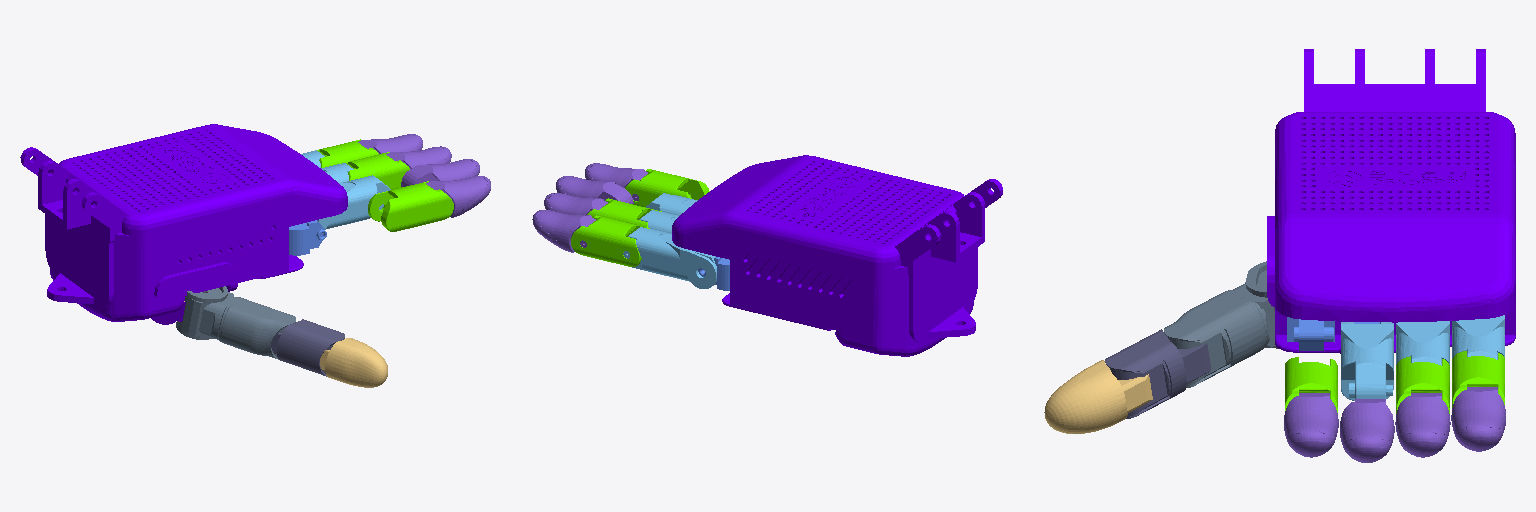
URDF robot description (marvin_021pro_left_hand):
<?xml version='1.0' encoding='utf-8'?>
<robot name="marvin_021pro_left_hand">
  <link name="left_hand_base" />
  <joint name="left_hand_base_to_palm" type="fixed">
    <origin xyz="0 0 0" rpy="3.141592653589793 1.5707963267948966 0" />
    <parent link="left_hand_base" />
    <child link="LFH1" />
  </joint>
  <link name="LFH1">
    <inertial>
      <origin xyz="-0.0283126622252394 0.000688479968389721 -0.0639051442577373" rpy="0 0 0" />
      <mass value="0.543642735514237" />
      <inertia ixx="0.000979750536437608" ixy="-1.17917915723662E-06" ixz="-6.92716665220165E-05" iyy="0.000799209099132617" iyz="1.4814722608082E-06" izz="0.000457430349727283" />
    </inertial>
    <visual>
      <origin xyz="0 0 0" rpy="0 0 0" />
      <geometry>
        <mesh filename="../meshes/LFH1.STL" />
      </geometry>
      <material name="">
        <color rgba="0.498039215686275 0 1 1" />
      </material>
    </visual>
    <collision>
      <origin xyz="0 0 0" rpy="0 0 0" />
      <geometry>
        <mesh filename="../meshes/LFH1.STL" />
      </geometry>
    </collision>
  </link>
  <joint name="l_f_jiont_1_1" type="revolute">
    <origin xyz="0.00100000000001331 0.0173445602788214 -0.0609471257740961" rpy="-1.5707963267949 -0.916297857297023 1.5707963267949" />
    <parent link="LFH1" />
    <child link="LH0_0" />
    <axis xyz="-1 0 0" />
    <limit lower="0" upper="2" effort="0" velocity="0" />
    <dynamics damping="1" />
  </joint>
  <link name="LH0_0">
    <inertial>
      <origin xyz="0.0166000000000424 0.00521327808423977 -0.000919241584170397" rpy="0 0 0" />
      <mass value="0.0105242867562401" />
      <inertia ixx="1.2532956219181E-06" ixy="-4.0775733491211E-18" ixz="2.02437400235205E-18" iyy="6.1001283705904E-07" iyz="1.23147578248221E-07" izz="1.28670321806408E-06" />
    </inertial>
    <visual>
      <origin xyz="0 0 0" rpy="0 0 0" />
      <geometry>
        <mesh filename="../meshes/LH0_0.STL" />
      </geometry>
      <material name="">
        <color rgba="0.929411764705882 0.866666666666667 0.509803921568627 1" />
      </material>
    </visual>
    <collision>
      <origin xyz="0 0 0" rpy="0 0 0" />
      <geometry>
        <mesh filename="../meshes/LH0_0.STL" />
      </geometry>
    </collision>
  </link>
  <joint name="l_f_jiont_1_2" type="revolute">
    <origin xyz="0.0165999999999998 0.0160247874130841 -0.0127767831775239" rpy="-0.908889863342848 1.39626340159548 -1.57079632679489" />
    <parent link="LH0_0" />
    <child link="LH0_1" />
    <axis xyz="-1 0 0" />
    <limit lower="0" upper="1.57" effort="0" velocity="0" />
    <dynamics damping="1" />
  </joint>
  <link name="LH0_1">
    <inertial>
      <origin xyz="-0.00980016175297627 0.0148824519512799 -0.0104531126041355" rpy="0 0 0" />
      <mass value="0.0246803806493865" />
      <inertia ixx="7.69889291002591E-06" ixy="9.16978592420118E-11" ixz="-3.78661646761027E-11" iyy="3.89934020758606E-06" iyz="2.84876838712703E-06" izz="5.54918229848097E-06" />
    </inertial>
    <visual>
      <origin xyz="0 0 0" rpy="0 0 0" />
      <geometry>
        <mesh filename="../meshes/LH0_1.STL" />
      </geometry>
      <material name="">
        <color rgba="0.458823529411765 0.529411764705882 0.6 1" />
      </material>
    </visual>
    <collision>
      <origin xyz="0 0 0" rpy="0 0 0" />
      <geometry>
        <mesh filename="../meshes/LH0_1.STL" />
      </geometry>
    </collision>
  </link>
  <joint name="l_f_jiont_1_3" type="revolute">
    <origin xyz="-0.00379999999999997 0.0339193422023142 -0.0264287386108816" rpy="0 0 0" />
    <parent link="LH0_1" />
    <child link="LH0_2" />
    <axis xyz="-1 0 0" />
    <limit lower="0" upper="1.57" effort="0" velocity="0" />
    <dynamics damping="1" />
  </joint>
  <link name="LH0_2">
    <inertial>
      <origin xyz="-0.00599999159560238 0.0119040425845733 -0.00882205791797352" rpy="0 0 0" />
      <mass value="0.0122867535274284" />
      <inertia ixx="1.78095916903708E-06" ixy="2.42605725823519E-12" ixz="3.18993844335404E-12" iyy="1.09334384708116E-06" iyz="5.54213671928001E-07" izz="1.38544224625468E-06" />
    </inertial>
    <visual>
      <origin xyz="0 0 0" rpy="0 0 0" />
      <geometry>
        <mesh filename="../meshes/LH0_2.STL" />
      </geometry>
      <material name="">
        <color rgba="0.407843137254902 0.407843137254902 0.549019607843137 1" />
      </material>
    </visual>
    <collision>
      <origin xyz="0 0 0" rpy="0 0 0" />
      <geometry>
        <mesh filename="../meshes/LH0_2.STL" />
      </geometry>
    </collision>
  </link>
  <joint name="l_f_jiont_1_4" type="revolute">
    <origin xyz="0 0.0214559559977439 -0.0167177137259533" rpy="3.14159265358979 0 3.14159265358979" />
    <parent link="LH0_2" />
    <child link="LH0_3" />
    <axis xyz="1 0 0" />
    <limit lower="0" upper="1.57" effort="0" velocity="0" />
    <dynamics damping="1" />
  </joint>
  <link name="LH0_3">
    <inertial>
      <origin xyz="0.00598304735243013 0.0109867177394931 0.00765050190558314" rpy="0 0 0" />
      <mass value="0.0110115159329348" />
      <inertia ixx="1.4786476061873E-06" ixy="1.72501042525721E-09" ixz="6.25480543410885E-10" iyy="8.31606834150819E-07" iyz="-4.30014581462672E-07" izz="1.15049777542025E-06" />
    </inertial>
    <visual>
      <origin xyz="0 0 0" rpy="0 0 0" />
      <geometry>
        <mesh filename="../meshes/LH0_3.STL" />
      </geometry>
      <material name="">
        <color rgba="0.949019607843137 0.819607843137255 0.549019607843137 1" />
      </material>
    </visual>
    <collision>
      <origin xyz="0 0 0" rpy="0 0 0" />
      <geometry>
        <mesh filename="../meshes/LH0_3.STL" />
      </geometry>
    </collision>
  </link>
  <joint name="l_f_jiont_2_1" type="revolute">
    <origin xyz="-0.0105000000000406 0.0304500000000006 -0.120779999999436" rpy="0 0 0" />
    <parent link="LFH1" />
    <child link="LH1_0" />
    <axis xyz="-1 0 0" />
    <limit lower="-0.5" upper="0.5" effort="0" velocity="0" />
    <dynamics damping="1" />
  </joint>
  <link name="LH1_0">
    <inertial>
      <origin xyz="-0.00753483839212598 -6.56575697274286E-05 -0.00156067568106899" rpy="0 0 0" />
      <mass value="0.00384132083097585" />
      <inertia ixx="1.98166029732879E-07" ixy="2.13072478669164E-11" ixz="-8.42891424723163E-10" iyy="1.94693501987889E-07" iyz="-2.53219746004558E-09" izz="1.29265932760838E-07" />
    </inertial>
    <visual>
      <origin xyz="0 0 0" rpy="0 0 0" />
      <geometry>
        <mesh filename="../meshes/LH1_0.STL" />
      </geometry>
      <material name="">
        <color rgba="0.43921568627451 0.619607843137255 1 1" />
      </material>
    </visual>
    <collision>
      <origin xyz="0 0 0" rpy="0 0 0" />
      <geometry>
        <mesh filename="../meshes/LH1_0.STL" />
      </geometry>
    </collision>
  </link>
  <joint name="l_f_jiont_2_2" type="revolute">
    <origin xyz="-0.00745000000000002 0.00964999999999816 -0.0116000000000016" rpy="-1.56219388225413 0 1.5707963267949" />
    <parent link="LH1_0" />
    <child link="LH1_1" />
    <axis xyz="-1 0 0" />
    <limit lower="0" upper="1.57" effort="0" velocity="0" />
    <dynamics damping="1" />
  </joint>
  <link name="LH1_1">
    <inertial>
      <origin xyz="-0.00987049399140527 0.0216900705981331 0.000469001993789357" rpy="0 0 0" />
      <mass value="0.0143435347859653" />
      <inertia ixx="3.16152538955223E-06" ixy="6.16470692052086E-08" ixz="-2.87807226290686E-09" iyy="7.98245289636303E-07" iyz="1.60820242954723E-08" izz="3.19346535959424E-06" />
    </inertial>
    <visual>
      <origin xyz="0 0 0" rpy="0 0 0" />
      <geometry>
        <mesh filename="../meshes/LH1_1.STL" />
      </geometry>
      <material name="">
        <color rgba="0.517647058823529 0.8 0.976470588235294 1" />
      </material>
    </visual>
    <collision>
      <origin xyz="0 0 0" rpy="0 0 0" />
      <geometry>
        <mesh filename="../meshes/LH1_1.STL" />
      </geometry>
    </collision>
  </link>
  <joint name="l_f_jiont_2_3" type="revolute">
    <origin xyz="-0.00324999999999998 0.0429984089656921 -0.000369900552980439" rpy="0 0 0" />
    <parent link="LH1_1" />
    <child link="LH1_2" />
    <axis xyz="-1 0 0" />
    <limit lower="0" upper="1.57" effort="0" velocity="0" />
    <dynamics damping="1" />
  </joint>
  <link name="LH1_2">
    <inertial>
      <origin xyz="-0.00544889119168712 0.0127720762485322 0.00114067254923101" rpy="0 0 0" />
      <mass value="0.00665207703839944" />
      <inertia ixx="6.98610019819466E-07" ixy="5.59570112396282E-09" ixz="6.97426748380745E-09" iyy="4.28859965831646E-07" iyz="1.08063987678575E-08" izz="7.86504902635463E-07" />
    </inertial>
    <visual>
      <origin xyz="0 0 0" rpy="0 0 0" />
      <geometry>
        <mesh filename="../meshes/LH1_2.STL" />
      </geometry>
      <material name="">
        <color rgba="0.486274509803922 1 0 1" />
      </material>
    </visual>
    <collision>
      <origin xyz="0 0 0" rpy="0 0 0" />
      <geometry>
        <mesh filename="../meshes/LH1_2.STL" />
      </geometry>
    </collision>
  </link>
  <joint name="l_f_jiont_2_4" type="revolute">
    <origin xyz="0 0.0249990749800535 -0.000215058461035155" rpy="0 0 0" />
    <parent link="LH1_2" />
    <child link="LH1_3" />
    <axis xyz="-1 0 0" />
    <limit lower="0" upper="1.57" effort="0" velocity="0" />
    <dynamics damping="1" />
  </joint>
  <link name="LH1_3">
    <inertial>
      <origin xyz="-0.00675575852361254 0.0126956670974427 0.000262258259880986" rpy="0 0 0" />
      <mass value="0.00790881358719177" />
      <inertia ixx="5.99156271417775E-07" ixy="-2.38669139187836E-08" ixz="-3.019499675288E-09" iyy="2.68602490482315E-07" iyz="-8.43836557539032E-08" izz="6.24785189974347E-07" />
    </inertial>
    <visual>
      <origin xyz="0 0 0" rpy="0 0 0" />
      <geometry>
        <mesh filename="../meshes/LH1_3.STL" />
      </geometry>
      <material name="">
        <color rgba="0.568627450980392 0.427450980392157 0.847058823529412 1" />
      </material>
    </visual>
    <collision>
      <origin xyz="0 0 0" rpy="0 0 0" />
      <geometry>
        <mesh filename="../meshes/LH1_3.STL" />
      </geometry>
    </collision>
  </link>
  <joint name="l_f_jiont_3_1" type="revolute">
    <origin xyz="-0.0132999999976476 0.0101499999999992 -0.125779999999436" rpy="0 0 0" />
    <parent link="LFH1" />
    <child link="LH2_0" />
    <axis xyz="-1 0 0" />
    <limit lower="-0.5" upper="0.5" effort="0" velocity="0" />
    <dynamics damping="1" />
  </joint>
  <link name="LH2_0">
    <inertial>
      <origin xyz="-0.00473483839212299 -6.56575697274286E-05 -0.00156067568106899" rpy="0 0 0" />
      <mass value="0.00384132083097581" />
      <inertia ixx="1.98166029732878E-07" ixy="2.13072478671596E-11" ixz="-8.428914247231E-10" iyy="1.94693501987888E-07" iyz="-2.5321974600455E-09" izz="1.29265932760837E-07" />
    </inertial>
    <visual>
      <origin xyz="0 0 0" rpy="0 0 0" />
      <geometry>
        <mesh filename="../meshes/LH2_0.STL" />
      </geometry>
      <material name="">
        <color rgba="0.43921568627451 0.619607843137255 1 1" />
      </material>
    </visual>
    <collision>
      <origin xyz="0 0 0" rpy="0 0 0" />
      <geometry>
        <mesh filename="../meshes/LH2_0.STL" />
      </geometry>
    </collision>
  </link>
  <joint name="l_f_jiont_3_2" type="revolute">
    <origin xyz="-0.00464999999999702 0.00964999999999816 -0.0116000000000016" rpy="-1.56219388225413 0 1.5707963267949" />
    <parent link="LH2_0" />
    <child link="LH2_1" />
    <axis xyz="-1 0 0" />
    <limit lower="0" upper="1.57" effort="0" velocity="0" />
    <dynamics damping="1" />
  </joint>
  <link name="LH2_1">
    <inertial>
      <origin xyz="-0.00987049399140516 0.0216900705981334 0.000469001993789395" rpy="0 0 0" />
      <mass value="0.0143435347859651" />
      <inertia ixx="3.16152538955221E-06" ixy="6.16470692052097E-08" ixz="-2.87807226290214E-09" iyy="7.9824528963629E-07" iyz="1.60820242954721E-08" izz="3.19346535959422E-06" />
    </inertial>
    <visual>
      <origin xyz="0 0 0" rpy="0 0 0" />
      <geometry>
        <mesh filename="../meshes/LH2_1.STL" />
      </geometry>
      <material name="">
        <color rgba="0.517647058823529 0.8 0.976470588235294 1" />
      </material>
    </visual>
    <collision>
      <origin xyz="0 0 0" rpy="0 0 0" />
      <geometry>
        <mesh filename="../meshes/LH2_1.STL" />
      </geometry>
    </collision>
  </link>
  <joint name="l_f_jiont_3_3" type="revolute">
    <origin xyz="-0.00324999999999998 0.042998408965692 -0.000369900552980439" rpy="0 0 0" />
    <parent link="LH2_1" />
    <child link="LH2_2" />
    <axis xyz="-1 0 0" />
    <limit lower="0" upper="1.57" effort="0" velocity="0" />
    <dynamics damping="1" />
  </joint>
  <link name="LH2_2">
    <inertial>
      <origin xyz="-0.00544889119168668 0.0127720762485326 0.00114067254923106" rpy="0 0 0" />
      <mass value="0.0066520770383994" />
      <inertia ixx="6.98610019819464E-07" ixy="5.59570112396897E-09" ixz="6.97426748382887E-09" iyy="4.28859965831636E-07" iyz="1.0806398767863E-08" izz="7.86504902635456E-07" />
    </inertial>
    <visual>
      <origin xyz="0 0 0" rpy="0 0 0" />
      <geometry>
        <mesh filename="../meshes/LH2_2.STL" />
      </geometry>
      <material name="">
        <color rgba="0.486274509803922 1 0 1" />
      </material>
    </visual>
    <collision>
      <origin xyz="0 0 0" rpy="0 0 0" />
      <geometry>
        <mesh filename="../meshes/LH2_2.STL" />
      </geometry>
    </collision>
  </link>
  <joint name="l_f_jiont_3_4" type="revolute">
    <origin xyz="0 0.0249990749800537 -0.000215058461035155" rpy="0 0 0" />
    <parent link="LH2_2" />
    <child link="LH2_3" />
    <axis xyz="-1 0 0" />
    <limit lower="0" upper="1.57" effort="0" velocity="0" />
    <dynamics damping="1" />
  </joint>
  <link name="LH2_3">
    <inertial>
      <origin xyz="-0.00675575852361265 0.012695667097443 0.000262258259880948" rpy="0 0 0" />
      <mass value="0.00790881358719179" />
      <inertia ixx="5.99156271417832E-07" ixy="-2.38669139187821E-08" ixz="-3.01949967527927E-09" iyy="2.68602490482317E-07" iyz="-8.4383655753925E-08" izz="6.24785189974376E-07" />
    </inertial>
    <visual>
      <origin xyz="0 0 0" rpy="0 0 0" />
      <geometry>
        <mesh filename="../meshes/LH2_3.STL" />
      </geometry>
      <material name="">
        <color rgba="0.568627450980392 0.427450980392157 0.847058823529412 1" />
      </material>
    </visual>
    <collision>
      <origin xyz="0 0 0" rpy="0 0 0" />
      <geometry>
        <mesh filename="../meshes/LH2_3.STL" />
      </geometry>
    </collision>
  </link>
  <joint name="l_f_jiont_4_1" type="revolute">
    <origin xyz="-0.0104999999976446 -0.0101499999999999 -0.120779999999432" rpy="0 0 0" />
    <parent link="LFH1" />
    <child link="LH3_0" />
    <axis xyz="-1 0 0" />
    <limit lower="-0.5" upper="0.5" effort="0" velocity="0" />
    <dynamics damping="1" />
  </joint>
  <link name="LH3_0">
    <inertial>
      <origin xyz="-0.00753483839212599 -6.56575697274286E-05 -0.0015606756810691" rpy="0 0 0" />
      <mass value="0.00384132083097583" />
      <inertia ixx="1.98166029732879E-07" ixy="2.13072478670396E-11" ixz="-8.4289142472314E-10" iyy="1.94693501987888E-07" iyz="-2.53219746004558E-09" izz="1.29265932760838E-07" />
    </inertial>
    <visual>
      <origin xyz="0 0 0" rpy="0 0 0" />
      <geometry>
        <mesh filename="../meshes/LH3_0.STL" />
      </geometry>
      <material name="">
        <color rgba="0.43921568627451 0.619607843137255 1 1" />
      </material>
    </visual>
    <collision>
      <origin xyz="0 0 0" rpy="0 0 0" />
      <geometry>
        <mesh filename="../meshes/LH3_0.STL" />
      </geometry>
    </collision>
  </link>
  <joint name="l_f_jiont_4_2" type="revolute">
    <origin xyz="-0.00745000000000002 0.00964999999999816 -0.0116000000000016" rpy="-1.56219388225413 0 1.5707963267949" />
    <parent link="LH3_0" />
    <child link="LH3_1" />
    <axis xyz="-1 0 0" />
    <limit lower="0" upper="1.57" effort="0" velocity="0" />
    <dynamics damping="1" />
  </joint>
  <link name="LH3_1">
    <inertial>
      <origin xyz="-0.00987049399140527 0.0216900705981333 0.000469001993789471" rpy="0 0 0" />
      <mass value="0.0143435347859655" />
      <inertia ixx="3.16152538955226E-06" ixy="6.16470692052087E-08" ixz="-2.87807226289824E-09" iyy="7.9824528963632E-07" iyz="1.60820242954571E-08" izz="3.19346535959426E-06" />
    </inertial>
    <visual>
      <origin xyz="0 0 0" rpy="0 0 0" />
      <geometry>
        <mesh filename="../meshes/LH3_1.STL" />
      </geometry>
      <material name="">
        <color rgba="0.517647058823529 0.8 0.976470588235294 1" />
      </material>
    </visual>
    <collision>
      <origin xyz="0 0 0" rpy="0 0 0" />
      <geometry>
        <mesh filename="../meshes/LH3_1.STL" />
      </geometry>
    </collision>
  </link>
  <joint name="l_f_jiont_4_3" type="revolute">
    <origin xyz="-0.00324999999999998 0.042998408965692 -0.000369900552980439" rpy="0 0 0" />
    <parent link="LH3_1" />
    <child link="LH3_2" />
    <axis xyz="-1 0 0" />
    <limit lower="0" upper="1.57" effort="0" velocity="0" />
    <dynamics damping="1" />
  </joint>
  <link name="LH3_2">
    <inertial>
      <origin xyz="-0.00544889119168712 0.0127720762485324 0.00114067254923081" rpy="0 0 0" />
      <mass value="0.00665207703839982" />
      <inertia ixx="6.9861001981951E-07" ixy="5.595701123962E-09" ixz="6.97426748379661E-09" iyy="4.28859965831676E-07" iyz="1.08063987678527E-08" izz="7.86504902635509E-07" />
    </inertial>
    <visual>
      <origin xyz="0 0 0" rpy="0 0 0" />
      <geometry>
        <mesh filename="../meshes/LH3_2.STL" />
      </geometry>
      <material name="">
        <color rgba="0.486274509803922 1 0 1" />
      </material>
    </visual>
    <collision>
      <origin xyz="0 0 0" rpy="0 0 0" />
      <geometry>
        <mesh filename="../meshes/LH3_2.STL" />
      </geometry>
    </collision>
  </link>
  <joint name="l_f_jiont_4_4" type="revolute">
    <origin xyz="0 0.0249990749800535 -0.000215058461035155" rpy="0 0 0" />
    <parent link="LH3_2" />
    <child link="LH3_3" />
    <axis xyz="-1 0 0" />
    <limit lower="0" upper="1.57" effort="0" velocity="0" />
    <dynamics damping="1" />
  </joint>
  <link name="LH3_3">
    <inertial>
      <origin xyz="-0.00675575852361221 0.0126956670974427 0.00026225825988109" rpy="0 0 0" />
      <mass value="0.00790881358719141" />
      <inertia ixx="5.9915627141781E-07" ixy="-2.38669139187932E-08" ixz="-3.01949967528199E-09" iyy="2.68602490482303E-07" iyz="-8.43836557539149E-08" izz="6.24785189974369E-07" />
    </inertial>
    <visual>
      <origin xyz="0 0 0" rpy="0 0 0" />
      <geometry>
        <mesh filename="../meshes/LH3_3.STL" />
      </geometry>
      <material name="">
        <color rgba="0.568627450980392 0.427450980392157 0.847058823529412 1" />
      </material>
    </visual>
    <collision>
      <origin xyz="0 0 0" rpy="0 0 0" />
      <geometry>
        <mesh filename="../meshes/LH3_3.STL" />
      </geometry>
    </collision>
  </link>
  <joint name="l_f_jiont_5_1" type="revolute">
    <origin xyz="-0.0107999999976326 -0.0304499999999993 -0.115779999999436" rpy="0 0 0" />
    <parent link="LFH1" />
    <child link="LH4_0" />
    <axis xyz="-1 0 0" />
    <limit lower="-0.5" upper="0.5" effort="0" velocity="0" />
    <dynamics damping="1" />
  </joint>
  <link name="LH4_0">
    <inertial>
      <origin xyz="-0.007234838392126 -6.56575697274286E-05 -0.00156067568106899" rpy="0 0 0" />
      <mass value="0.00384132083097584" />
      <inertia ixx="1.98166029732879E-07" ixy="2.13072478671662E-11" ixz="-8.42891424723104E-10" iyy="1.94693501987889E-07" iyz="-2.53219746004551E-09" izz="1.29265932760838E-07" />
    </inertial>
    <visual>
      <origin xyz="0 0 0" rpy="0 0 0" />
      <geometry>
        <mesh filename="../meshes/LH4_0.STL" />
      </geometry>
      <material name="">
        <color rgba="0.43921568627451 0.619607843137255 1 1" />
      </material>
    </visual>
    <collision>
      <origin xyz="0 0 0" rpy="0 0 0" />
      <geometry>
        <mesh filename="../meshes/LH4_0.STL" />
      </geometry>
    </collision>
  </link>
  <joint name="l_f_jiont_5_2" type="revolute">
    <origin xyz="-0.00715 -0.00780000000000147 -0.0115999999999986" rpy="-1.57939877133567 0 -1.5707963267949" />
    <parent link="LH4_0" />
    <child link="LH4_1" />
    <axis xyz="1 0 0" />
    <limit lower="0" upper="1.57" effort="0" velocity="0" />
    <dynamics damping="1" />
  </joint>
  <link name="LH4_1">
    <inertial>
      <origin xyz="-0.00757950600859447 0.0216900705981334 -0.000469001993789572" rpy="0 0 0" />
      <mass value="0.0143435347859651" />
      <inertia ixx="3.16152538955222E-06" ixy="-6.16470692052003E-08" ixz="-2.87807226289706E-09" iyy="7.9824528963629E-07" iyz="-1.60820242954552E-08" izz="3.19346535959423E-06" />
    </inertial>
    <visual>
      <origin xyz="0 0 0" rpy="0 0 0" />
      <geometry>
        <mesh filename="../meshes/LH4_1.STL" />
      </geometry>
      <material name="">
        <color rgba="0.517647058823529 0.8 0.976470588235294 1" />
      </material>
    </visual>
    <collision>
      <origin xyz="0 0 0" rpy="0 0 0" />
      <geometry>
        <mesh filename="../meshes/LH4_1.STL" />
      </geometry>
    </collision>
  </link>
  <joint name="l_f_jiont_5_3" type="revolute">
    <origin xyz="0.00150000000000039 0.0429984089656921 0.000369900552980414" rpy="3.14159265358979 0 -3.14159265358979" />
    <parent link="LH4_1" />
    <child link="LH4_2" />
    <axis xyz="-1 0 0" />
    <limit lower="0" upper="1.57" effort="0" velocity="0" />
    <dynamics damping="1" />
  </joint>
  <link name="LH4_2">
    <inertial>
      <origin xyz="0.0102511088083128 0.0127720762485324 0.0011406725492309" rpy="0 0 0" />
      <mass value="0.00665207703840001" />
      <inertia ixx="6.98610019819525E-07" ixy="5.59570112396005E-09" ixz="6.97426748381524E-09" iyy="4.28859965831687E-07" iyz="1.08063987678554E-08" izz="7.86504902635523E-07" />
    </inertial>
    <visual>
      <origin xyz="0 0 0" rpy="0 0 0" />
      <geometry>
        <mesh filename="../meshes/LH4_2.STL" />
      </geometry>
      <material name="">
        <color rgba="0.486274509803922 1 0 1" />
      </material>
    </visual>
    <collision>
      <origin xyz="0 0 0" rpy="0 0 0" />
      <geometry>
        <mesh filename="../meshes/LH4_2.STL" />
      </geometry>
    </collision>
  </link>
  <joint name="l_f_jiont_5_4" type="revolute">
    <origin xyz="0 0.0249990749800537 -0.000215058461035159" rpy="0 0 0" />
    <parent link="LH4_2" />
    <child link="LH4_3" />
    <axis xyz="-1 0 0" />
    <limit lower="0" upper="1.57" effort="0" velocity="0" />
    <dynamics damping="1" />
  </joint>
  <link name="LH4_3">
    <inertial>
      <origin xyz="0.00894424147638273 0.0126956670974434 0.000262258259881128" rpy="0 0 0" />
      <mass value="0.00790881358719153" />
      <inertia ixx="5.99156271417838E-07" ixy="-2.38669139187953E-08" ixz="-3.01949967528437E-09" iyy="2.68602490482291E-07" iyz="-8.43836557539304E-08" izz="6.24785189974385E-07" />
    </inertial>
    <visual>
      <origin xyz="0 0 0" rpy="0 0 0" />
      <geometry>
        <mesh filename="../meshes/LH4_3.STL" />
      </geometry>
      <material name="">
        <color rgba="0.568627450980392 0.427450980392157 0.847058823529412 1" />
      </material>
    </visual>
    <collision>
      <origin xyz="0 0 0" rpy="0 0 0" />
      <geometry>
        <mesh filename="../meshes/LH4_3.STL" />
      </geometry>
    </collision>
  </link>
</robot>

--- What the picture shows (computed from the rendered views, not written in the file) ---
3 views of the same robot in one strip: view 1: azimuth 30°, elevation 25°; view 2: azimuth 150°, elevation 25°; view 3: azimuth 270°, elevation 25° (orthographic).
Model marvin_021pro_left_hand with 22 links and 21 joints (20 revolute, 1 fixed), rooted at left_hand_base, posed every joint at zero.
Links seen in each view (by area): view 1: LFH1, LH0_1, LH1_2, LH0_3, LH0_2, LH2_1, LH1_3, LH3_2, LH2_3, LH1_0, LH4_2, LH3_3 (+1 smaller); view 2: LFH1, LH4_1, LH4_2, LH1_2, LH4_3, LH2_3, LH3_3, LH1_3, LH3_2, LH2_1, LH3_1; view 3: LFH1, LH0_1, LH0_3, LH0_2, LH2_1, LH4_3, LH1_3, LH3_3, LH2_3, LH3_1, LH4_1, LH3_2 (+3 smaller).
Link boxes in pixels (x1=…): LFH1: x1=20, y1=124, x2=347, y2=324; LH0_1: x1=176, y1=286, x2=295, y2=359; LH1_2: x1=368, y1=181, x2=453, y2=231; LH0_3: x1=320, y1=338, x2=387, y2=387; LH0_2: x1=271, y1=319, x2=344, y2=376; LH2_1: x1=317, y1=175, x2=390, y2=229; LH1_3: x1=426, y1=176, x2=490, y2=217; LH3_2: x1=346, y1=152, x2=409, y2=189; LH2_3: x1=401, y1=159, x2=479, y2=186; LH1_0: x1=289, y1=220, x2=326, y2=255; LH4_2: x1=317, y1=139, x2=378, y2=167; LH3_3: x1=386, y1=146, x2=451, y2=168; LFH1: x1=672, y1=155, x2=1002, y2=356; LH4_1: x1=623, y1=227, x2=716, y2=288; LH4_2: x1=571, y1=215, x2=649, y2=266; LH1_2: x1=625, y1=169, x2=709, y2=206; LH4_3: x1=532, y1=210, x2=595, y2=252; LH2_3: x1=556, y1=176, x2=633, y2=203; LH3_3: x1=544, y1=193, x2=607, y2=214; LH1_3: x1=585, y1=163, x2=647, y2=200; LH3_2: x1=587, y1=198, x2=661, y2=227; LH2_1: x1=646, y1=193, x2=697, y2=215; LH3_1: x1=639, y1=210, x2=678, y2=233; LFH1: x1=1267, y1=49, x2=1515, y2=353; LH0_1: x1=1164, y1=261, x2=1278, y2=387; LH0_3: x1=1044, y1=360, x2=1152, y2=433; LH0_2: x1=1105, y1=329, x2=1210, y2=418; LH2_1: x1=1341, y1=322, x2=1393, y2=400; LH4_3: x1=1451, y1=387, x2=1505, y2=451; LH1_3: x1=1284, y1=393, x2=1338, y2=457; LH3_3: x1=1395, y1=393, x2=1450, y2=457; LH2_3: x1=1340, y1=399, x2=1394, y2=462; LH3_1: x1=1396, y1=321, x2=1449, y2=365; LH4_1: x1=1452, y1=315, x2=1504, y2=359; LH3_2: x1=1396, y1=356, x2=1449, y2=413.
Bounding box of the posed robot: 0.2467 × 0.1711 × 0.1003 m (x, y, z).
Meshes: 21 distinct files referenced, 19 mesh visuals loaded (19 binary STL); not drawn: 2 (reference not matched to a file when rendering).
